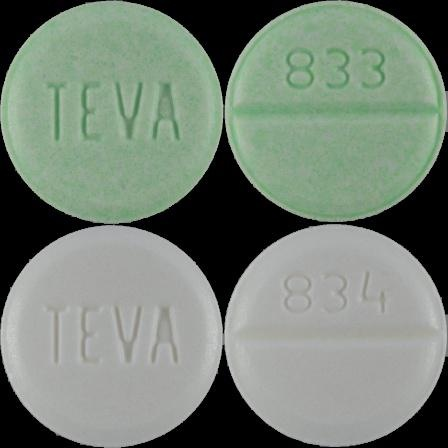0093-0833: (0, 0, 224, 224)
